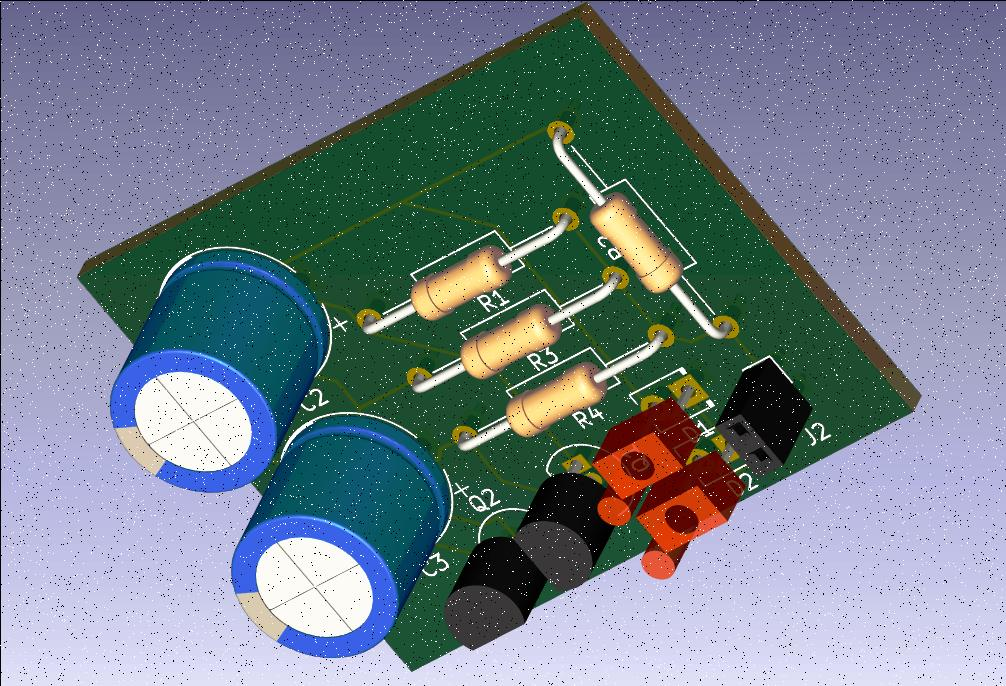capacitor: (106, 248, 327, 492), (243, 414, 446, 660)
diode_smd_orange: (632, 456, 752, 586), (576, 400, 696, 530)
resistor: (594, 190, 696, 298), (405, 238, 514, 324), (459, 300, 567, 378), (507, 362, 605, 437)
transistor: (513, 467, 618, 590), (444, 534, 544, 652)
